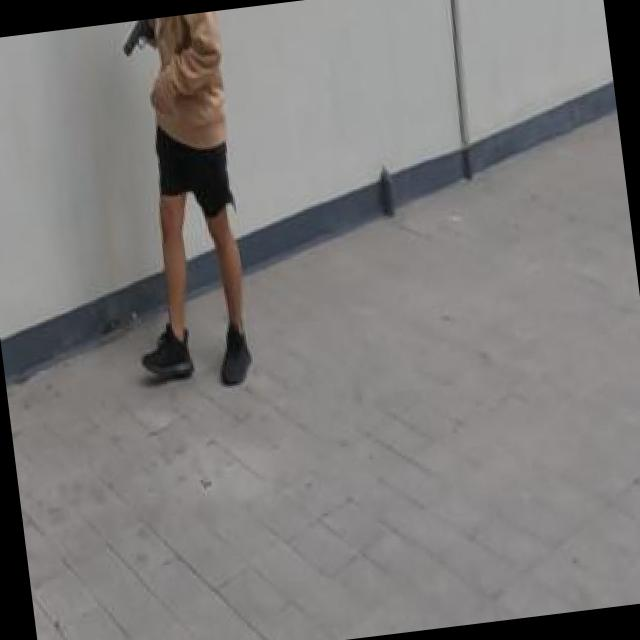Guns: (114, 18, 164, 60)
